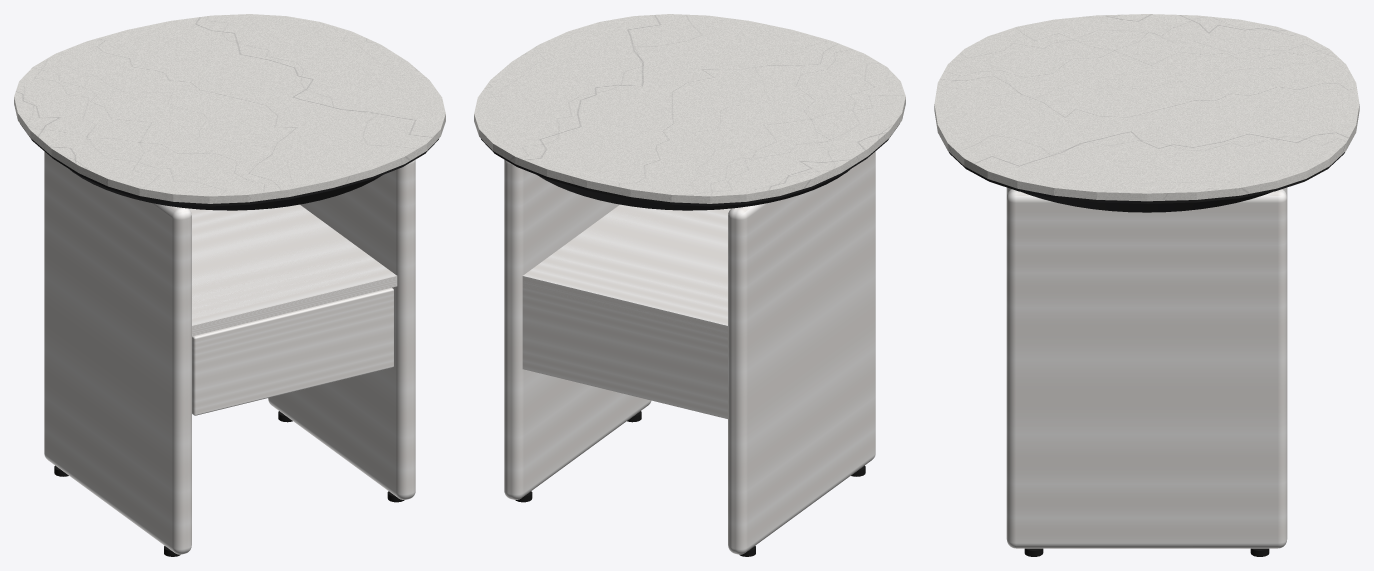
File: ownTawu.glb
3 renders of one model, left to right at view 1: azimuth 30°, elevation 25°; view 2: azimuth 150°, elevation 25°; view 3: azimuth 270°, elevation 25°, orthographic. The views are drawn at different scales.
Size of the model in its own units: 0.5 by 0.51 by 0.5.
Materials: 5 (2 with a texture image).
